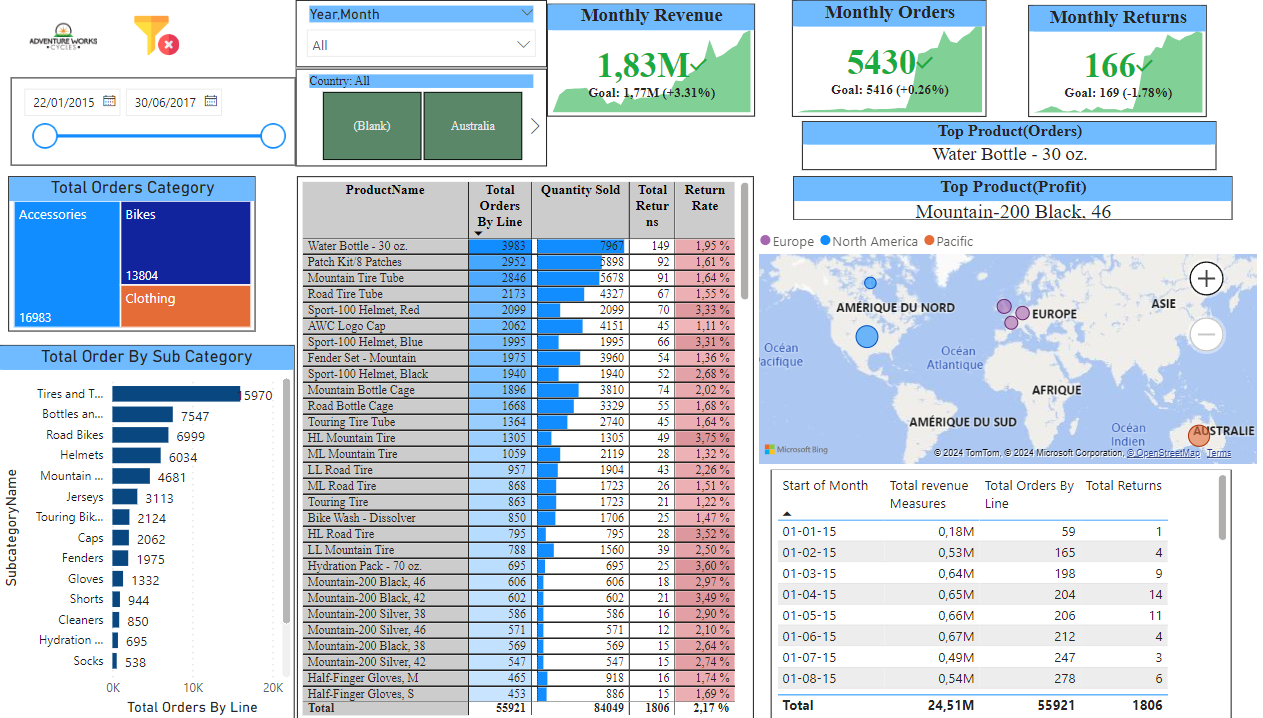

The page's visual inventory and layout, read from the dashboard file:
{"tool":"powerbi","page":{"name":"Summary","canvas":[1280,720],"ordinal":0},"visuals":[{"type":"image","box":[0,0,132.7,77.2],"z":0},{"type":"barChart","title":"Total Order By Sub Category","fields":{"Y":["A Measure Table.Total Orders By Line"],"Category":["Product_Subcategory_Lookup.SubcategoryName"]},"box":[0,345.3,297.9,374.5],"z":1000},{"type":"treemap","title":"Total Orders Category","fields":{"Group":["Product_Category_Lookup.CategoryName"],"Values":["A Measure Table.Total Orders"]},"box":[10.9,176.1,247.2,155.6],"z":2000},{"type":"pivotTable","fields":{"Rows":["Product_Category_Lookup.CategoryName","Product_Subcategory_Lookup.SubcategoryName","product_Lookup.ProductName"],"Values":["A Measure Table.Total Orders By Line","A Measure Table.Quantity Sold","A Measure Table.Total Returns","A Measure Table.Return Rate"]},"box":[299.9,176.6,456.7,543.5],"z":3000},{"type":"slicer","fields":{"Values":["Territories_Lookup.Country"]},"box":[298.4,68.5,251.2,97.4],"z":4000},{"type":"slicer","title":"Month","fields":{"Values":["Calendar_Lookup.Date.Variation.Date Hierarchy.Year","Calendar_Lookup.Date.Variation.Date Hierarchy.Month"]},"box":[298.4,0,251.2,67],"z":5000},{"type":"slicer","fields":{"Values":["Calendar_Lookup.Date"]},"box":[13.7,77.6,284.7,88.3],"z":6000},{"type":"tableEx","fields":{"Values":["Calendar_Lookup.Start of Month","A Measure Table.Total revenue Measures","A Measure Table.Total Orders By Line","A Measure Table.Total Returns"]},"box":[773.3,469.3,460.8,250.5],"z":7000},{"type":"kpi","title":"Monthly Revenue","fields":{"Indicator":["A Measure Table.Total revenue Measures"],"TrendLine":["Calendar_Lookup.Start of Month"],"Goal":["A Measure Table.Prev Month Revenue"]},"box":[549.5,3.6,207.9,113.1],"z":8000},{"type":"kpi","title":"Monthly Orders","fields":{"TrendLine":["Calendar_Lookup.Start of Month"],"Indicator":["A Measure Table.Total Orders By Line"],"Goal":["A Measure Table.Prev Month Orders"]},"box":[795.1,0,194.5,116.7],"z":9000},{"type":"kpi","title":"Monthly Returns","fields":{"TrendLine":["Calendar_Lookup.Start of Month"],"Indicator":["A Measure Table.Total Returns"],"Goal":["A Measure Table.Prev Month Returns"]},"box":[1031,4.9,178.7,111.9],"z":10000},{"type":"card","title":"Top Product(Orders)","fields":{"Values":["Min(product_Lookup.ProductName)"]},"box":[804.9,121.6,414.6,48.6],"z":11000},{"type":"card","title":"Top Product(Profit)","fields":{"Values":["Min(product_Lookup.ProductName)"]},"box":[796.4,176.3,438.9,43.8],"z":12000},{"type":"map","fields":{"Category":["Territories_Lookup.Country"],"Series":["Territories_Lookup.Continent"],"Size":["A Measure Table.Total revenue Measures"]},"box":[757.4,220.1,507,249.2],"z":13000},{"type":"image","box":[132.7,4.8,54.3,60.3],"z":14000}]}

Visuals, with their boxes in screenshot pixels (x1, y1, x2, y2), scaled from the page's 1280x720 canvas onto the 1263x718 screenshot:
image: 0,0,131,77
"Total Order By Sub Category" barChart: 0,344,294,717
"Total Orders Category" treemap: 11,176,255,331
pivotTable - Product_Category_Lookup.CategoryName x Product_Subcategory_Lookup.SubcategoryName: 296,176,747,717
slicer - Territories_Lookup.Country: 294,68,542,165
"Month" slicer: 294,0,542,67
slicer - Calendar_Lookup.Date: 14,77,294,165
tableEx - Calendar_Lookup.Start of Month x A Measure Table.Total revenue Measures: 763,468,1218,717
"Monthly Revenue" kpi: 542,4,747,116
"Monthly Orders" kpi: 785,0,976,116
"Monthly Returns" kpi: 1017,5,1194,116
"Top Product(Orders)" card: 794,121,1203,170
"Top Product(Profit)" card: 786,176,1219,219
map - Territories_Lookup.Country x Territories_Lookup.Continent: 747,219,1248,468
image: 131,5,185,65
